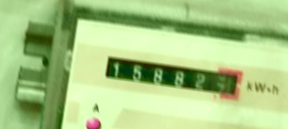1: (109, 60, 120, 77)
2: (192, 70, 204, 89)
5: (130, 63, 142, 80)
7: (214, 80, 224, 93)
8: (171, 68, 183, 87), (150, 66, 162, 84)
screen: (95, 46, 247, 105)
